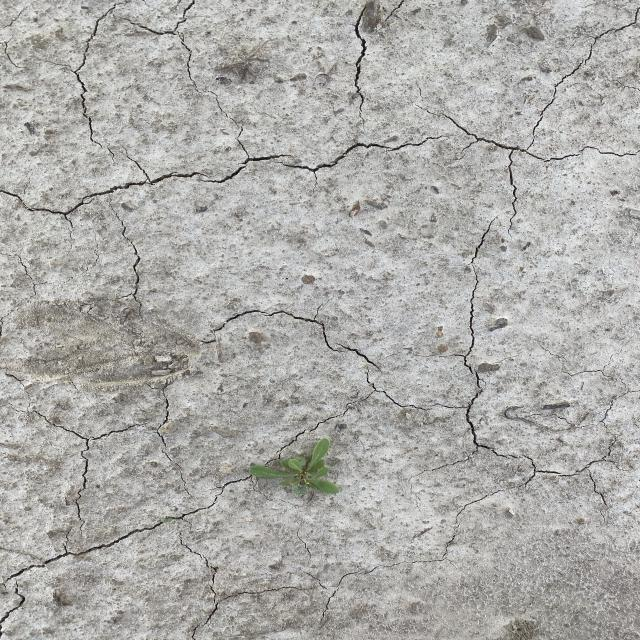Carpetweed: (246, 437, 342, 499)
